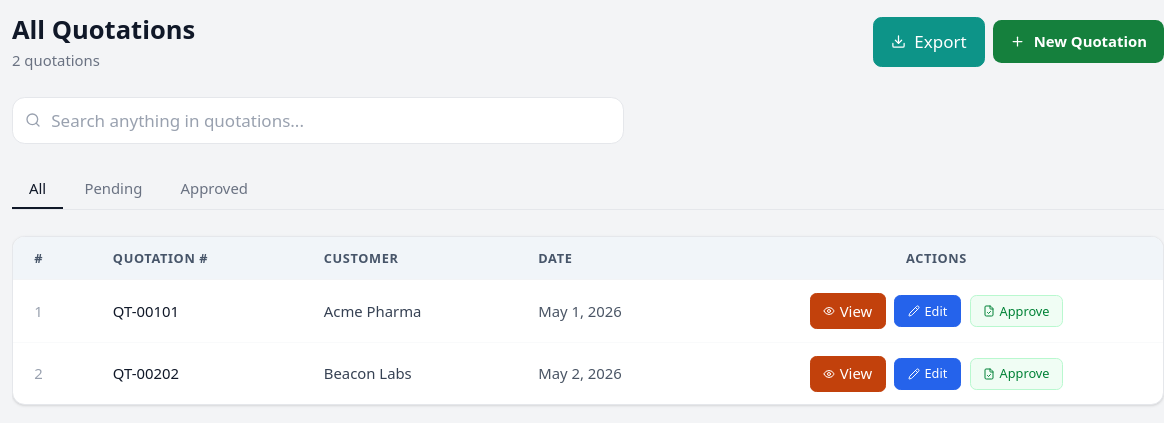
it: QuotationListPage search › filters quotations with the top global search across visible and hidden row fields
Check: the text "QT-00101" is shown, box 92,280 -> 303,342
Check: the text "QT-00202" is shown, box 92,342 -> 303,404
Type "Chattogram" into the field with placeholder "Search anything in quotations..." at (318, 120), box 12,97 -> 624,144
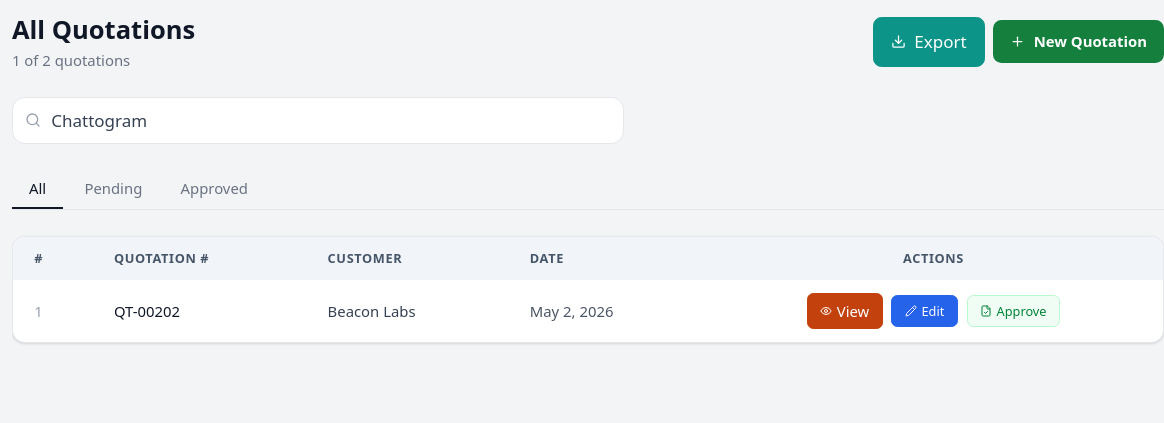
Check: the text "QT-00202" is shown, box 93,280 -> 306,342
Check: the text "QT-00101" is gone
Check: the text "1 of 2 quotations" is shown, box 12,50 -> 130,70
